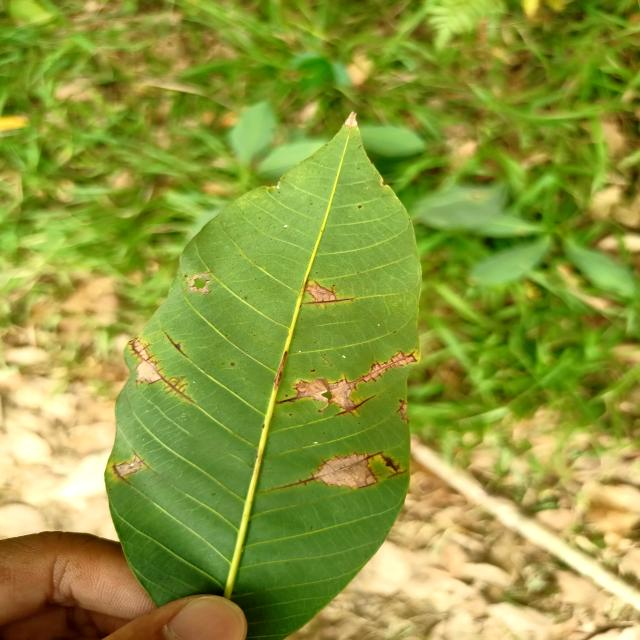Colletotrichum: (358, 205, 362, 209)
Corynespora: (278, 351, 418, 404), (129, 335, 195, 403), (278, 451, 384, 490), (334, 394, 376, 416), (163, 332, 189, 358), (381, 453, 407, 478), (300, 297, 354, 307), (112, 465, 132, 486), (132, 449, 152, 470), (395, 400, 407, 413)
Leaf-Blight: (314, 454, 376, 487), (296, 378, 356, 409), (137, 360, 162, 383), (116, 457, 141, 476), (307, 286, 336, 302)
